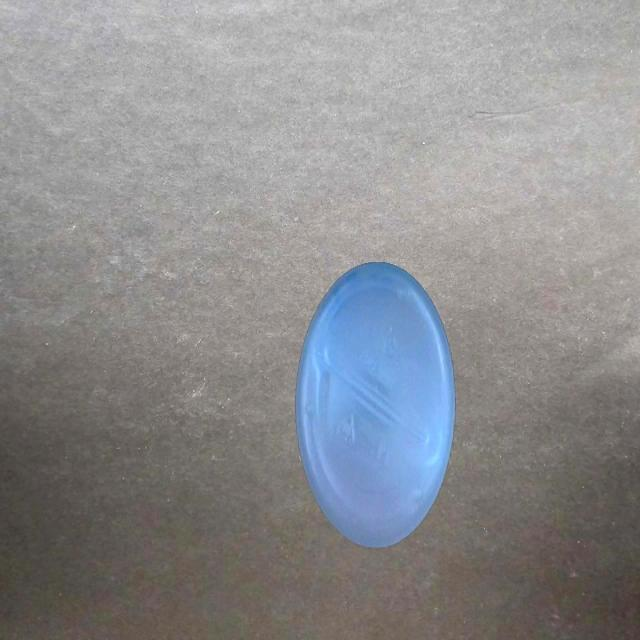bottle: (294, 255, 458, 557)
